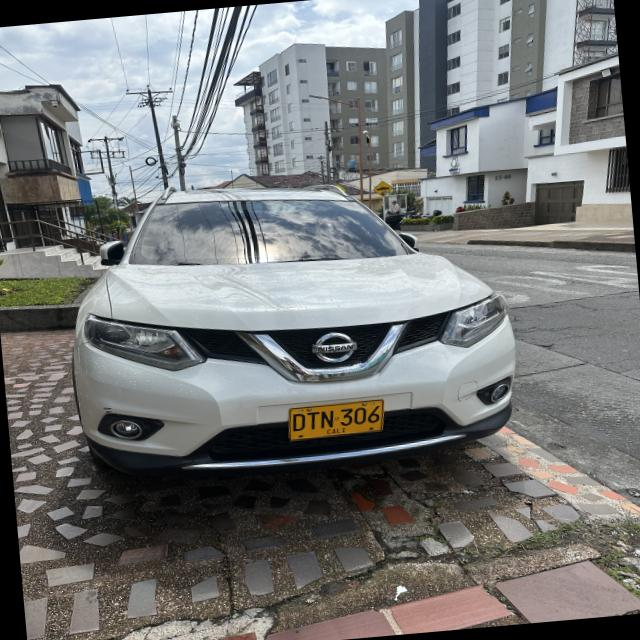number plate: (288, 399, 383, 440)
